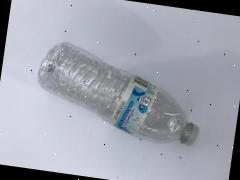plastic: (18, 26, 240, 180)
